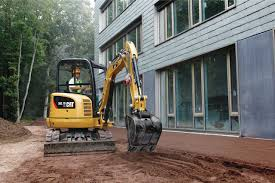excavator: (42, 44, 165, 163)
